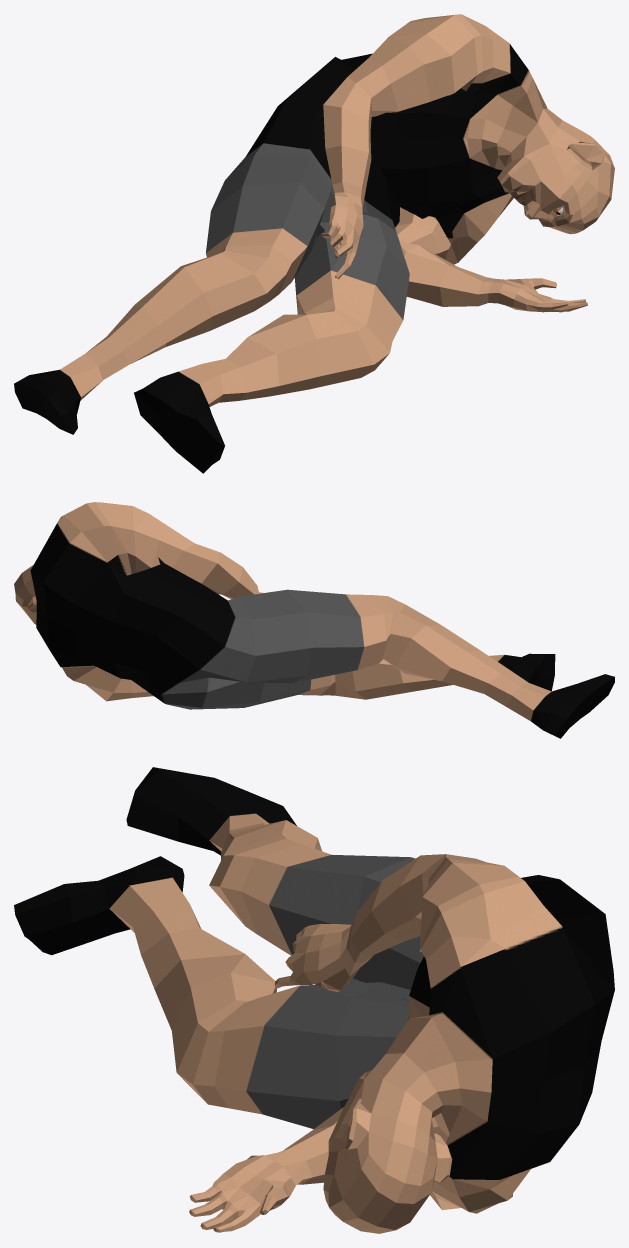
Rendered from PlayerDead(74).obj.
3 views of the same model, one above another, from view 1: azimuth 30°, elevation 25°; view 2: azimuth 150°, elevation 25°; view 3: azimuth 270°, elevation 25° (orthographic). The views are drawn at different scales.
Visible parts, largest first — view 1: Plane002; view 2: Plane002; view 3: Plane002.
Boxes of the visible parts, x1,y1,x2,y2 form: Plane002: (14, 14, 614, 473); Plane002: (14, 502, 614, 738); Plane002: (14, 767, 614, 1233).
Bounding box in the file's own units: 1562 × 566 × 888.
